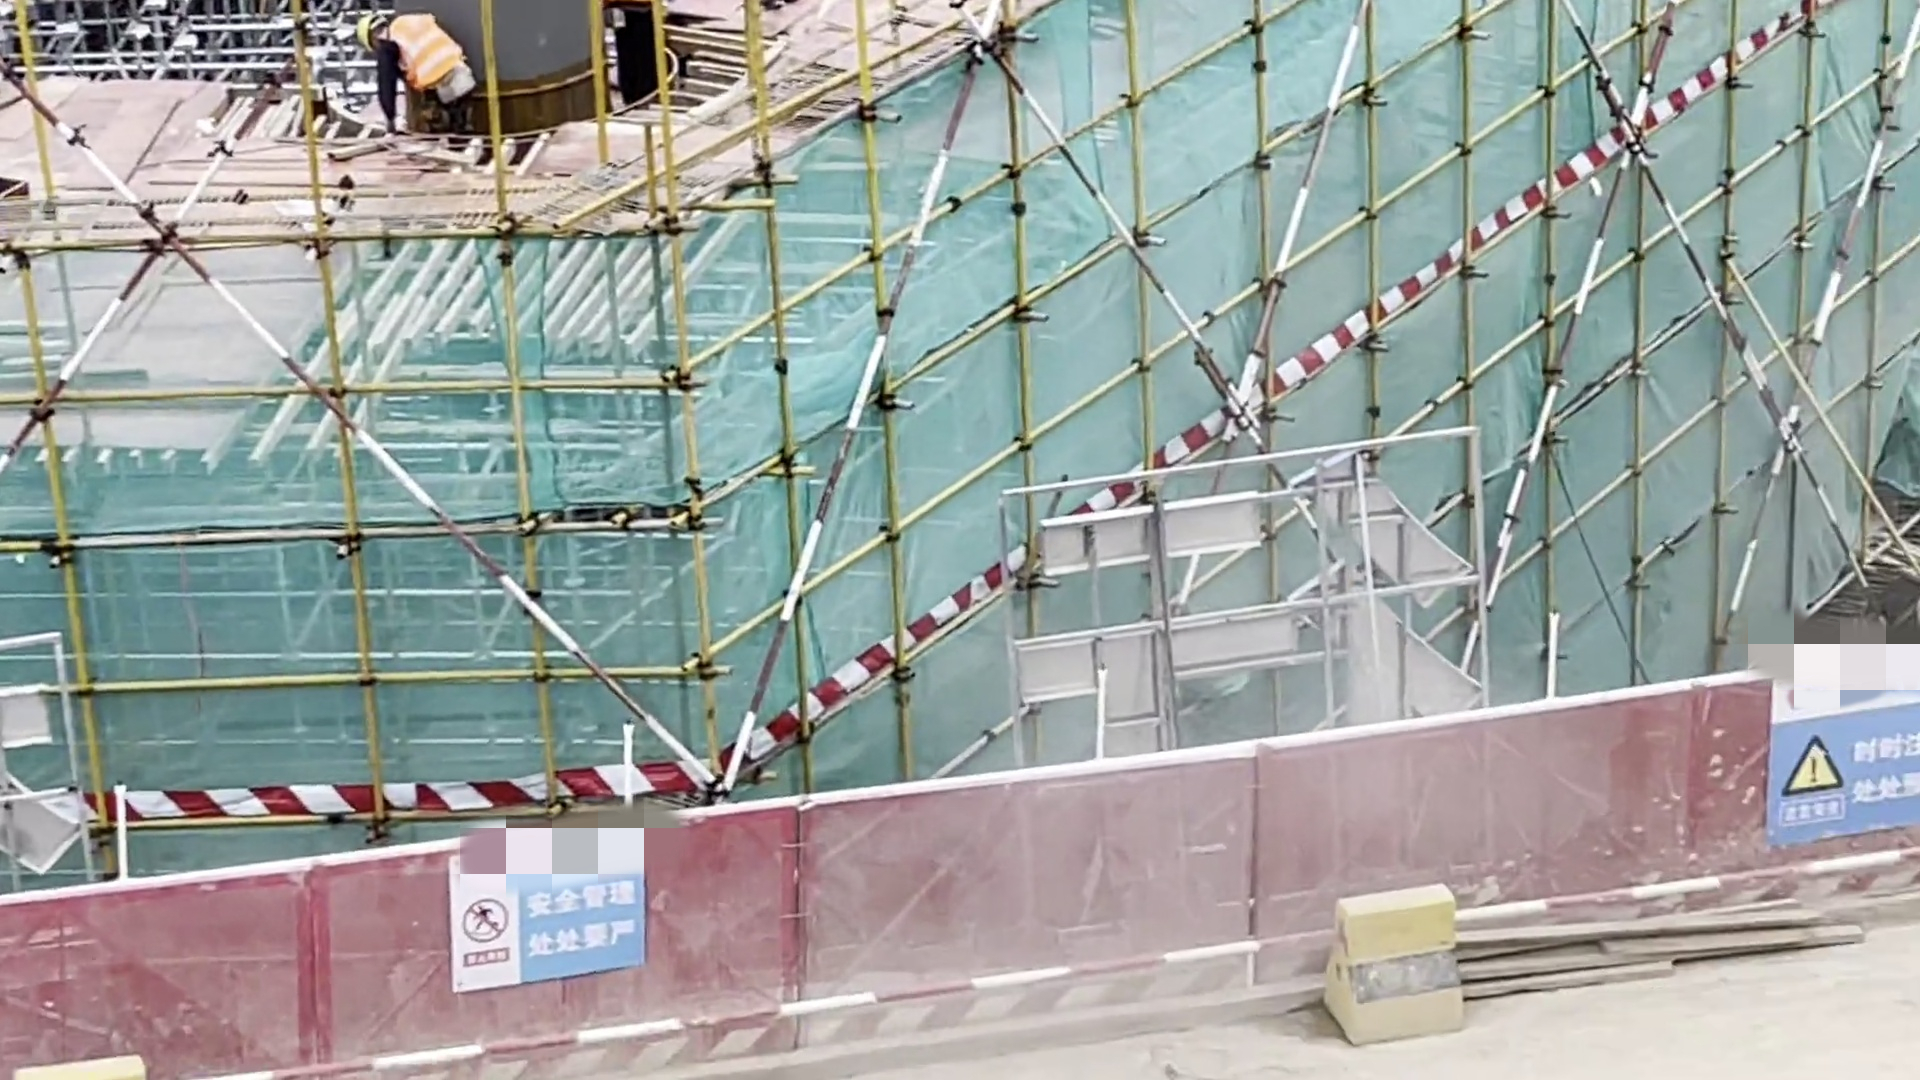fence: (16, 681, 1901, 1080)
helmet: (349, 3, 385, 50)
person: (347, 4, 496, 141)
slogan: (1749, 661, 1920, 853), (460, 853, 653, 988)
vest: (385, 16, 475, 91)
